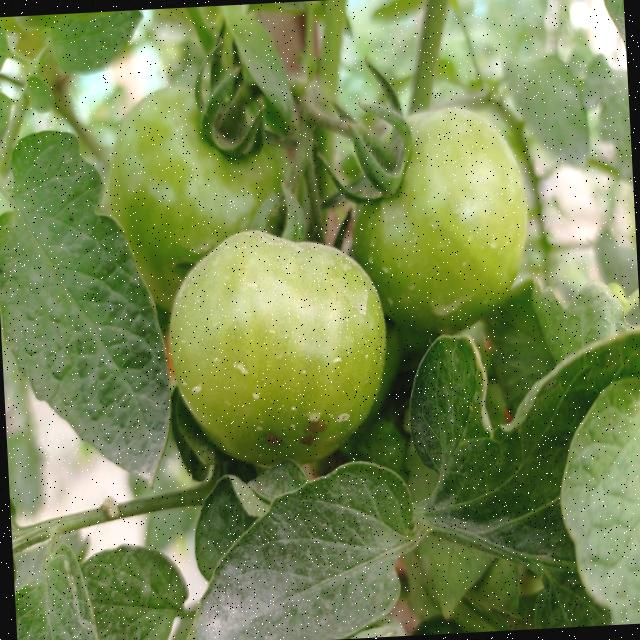Unripe: (160, 221, 393, 468), (365, 96, 535, 338)
